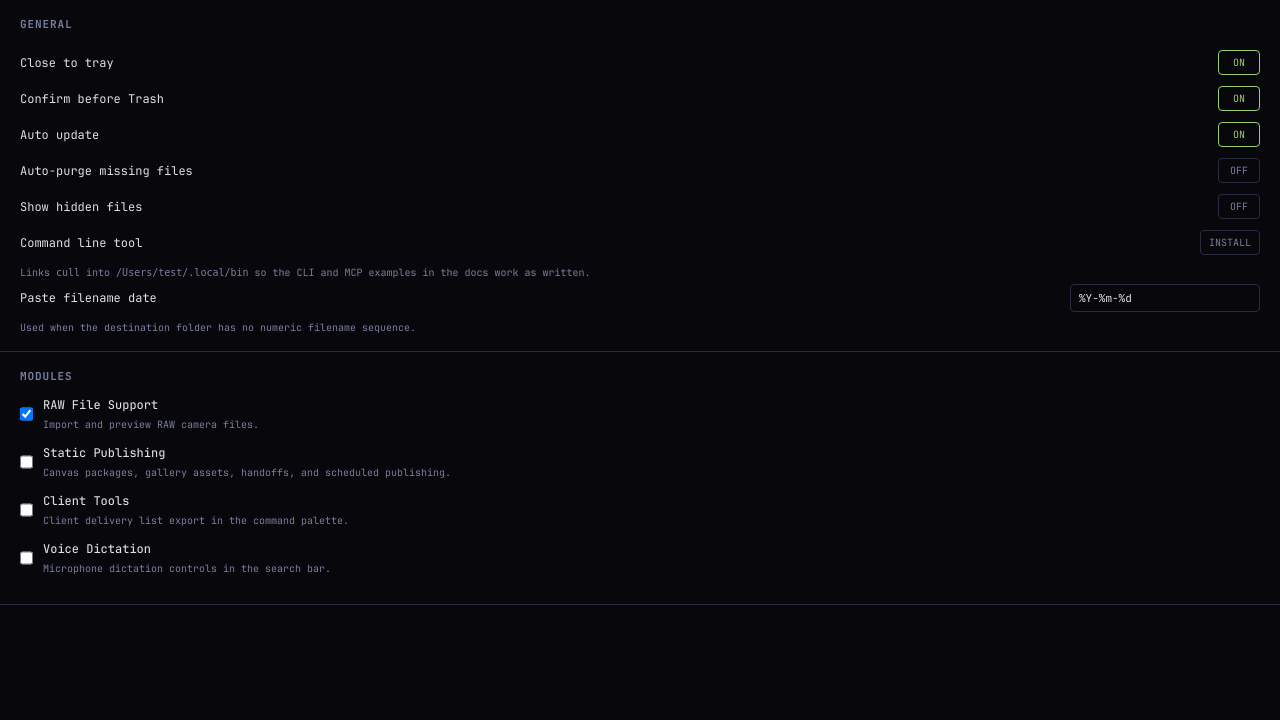
Test case: General Settings: command line tool › names the install action exactly and shows the destination after success
This screenshot has width=1280, height=720.
Step 1. Click the button with aria-label "Install command line tool" → click(1230, 242), box [1200,230,1260,255]
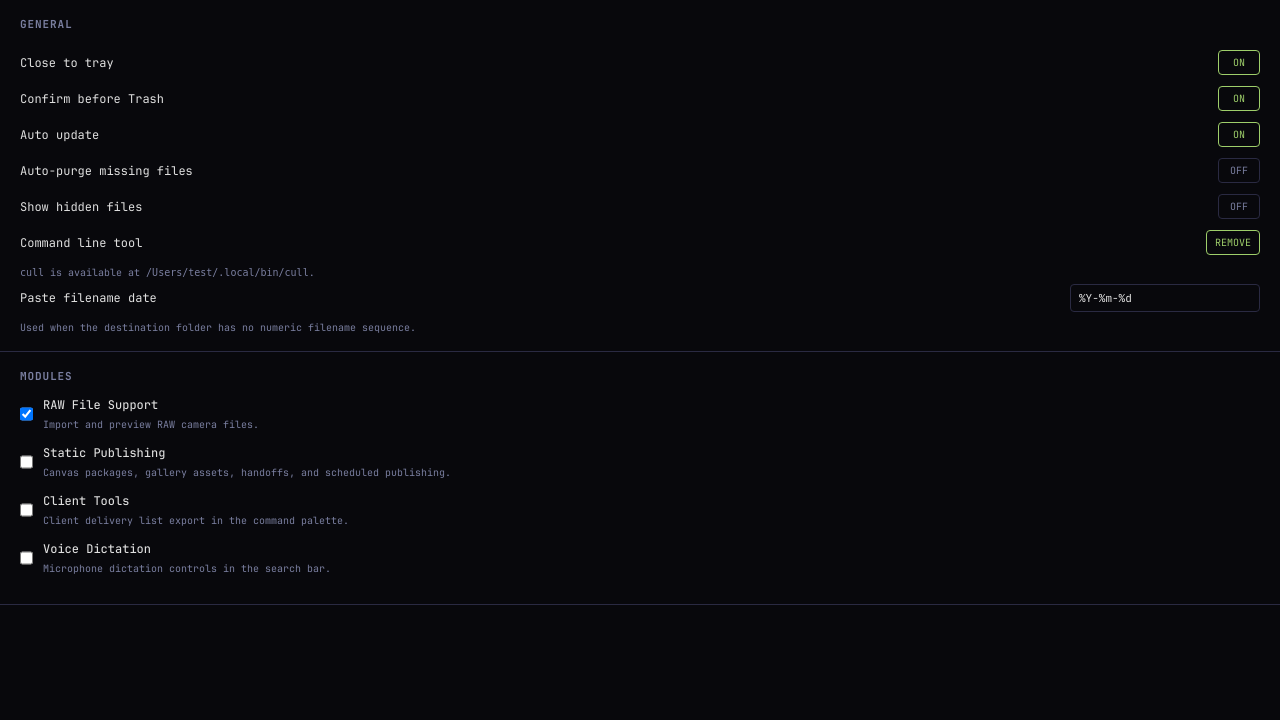
Check: the button with aria-label "Remove command line tool" is enabled, box [1206,230,1260,255]
Check: the text "cull is available at /Users/test/.local/bin/cull." is shown, box [20,266,315,278]
